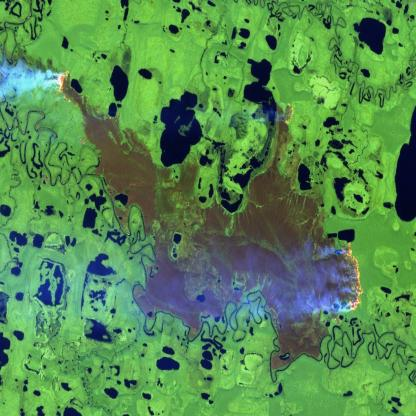fire: (336, 238, 364, 321), (51, 67, 86, 112), (282, 99, 302, 130)
